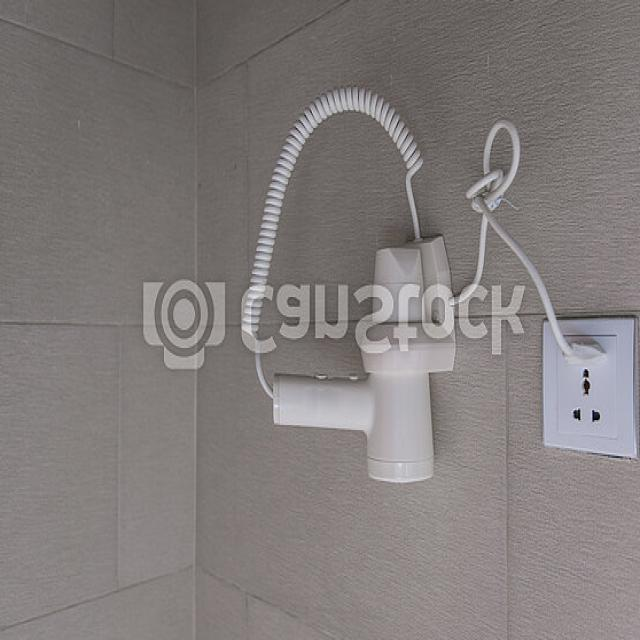dryer: (218, 61, 486, 531)
